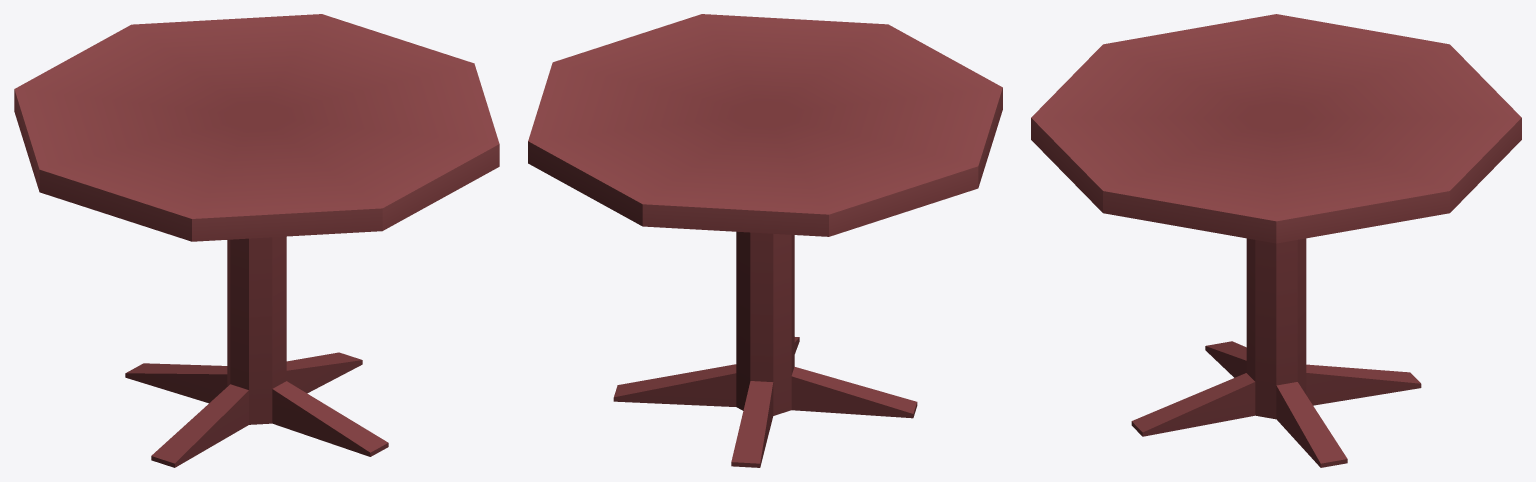
File: BeachTable.fbx
3 views of the same model, side by side, from view 1: azimuth 30°, elevation 25°; view 2: azimuth 150°, elevation 25°; view 3: azimuth 270°, elevation 25° (orthographic). The views are drawn at different scales.
Parts seen in each view (by area): view 1: Circle.028; view 2: Circle.028; view 3: Circle.028.
Part boxes in pixels (x1,y1,x2,y2): Circle.028: [14, 14, 499, 467]; Circle.028: [528, 14, 1002, 467]; Circle.028: [1031, 14, 1521, 467].
Size of the model in its own units: 200 by 130 by 200.
